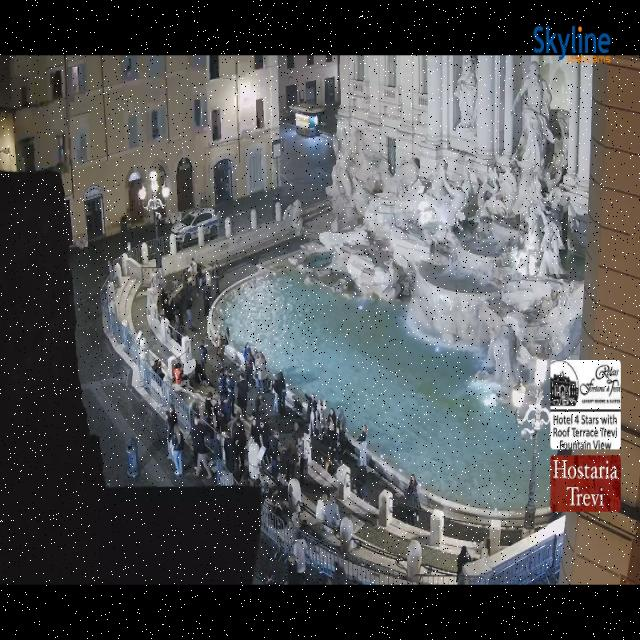person: (192, 413, 212, 479), (206, 409, 223, 477), (265, 486, 287, 529), (267, 483, 287, 529), (206, 376, 227, 416), (260, 458, 287, 489), (149, 270, 166, 319), (232, 417, 246, 474), (274, 449, 288, 502), (293, 531, 307, 584), (295, 504, 315, 541), (203, 413, 216, 469), (298, 432, 311, 488), (256, 416, 271, 464), (171, 425, 185, 475), (183, 360, 208, 388), (406, 475, 420, 525), (256, 418, 271, 463), (270, 472, 288, 508), (320, 562, 349, 584), (273, 450, 287, 492), (217, 422, 230, 467), (156, 293, 174, 324), (457, 546, 472, 583), (250, 402, 263, 444), (167, 405, 177, 459), (236, 374, 248, 419), (205, 392, 219, 430), (231, 416, 247, 449), (272, 372, 285, 412), (457, 546, 471, 583), (268, 432, 279, 478), (286, 440, 298, 482), (223, 430, 235, 472), (271, 488, 287, 519), (185, 402, 200, 435), (186, 263, 200, 297), (167, 362, 188, 384), (325, 497, 339, 530), (267, 480, 282, 510), (315, 399, 326, 439), (277, 450, 288, 490), (174, 295, 185, 334), (327, 409, 337, 451), (244, 349, 255, 387), (170, 292, 183, 324), (330, 443, 343, 475), (357, 424, 367, 465), (193, 362, 210, 386), (173, 291, 185, 325), (226, 371, 235, 416), (164, 290, 179, 317), (316, 399, 326, 439), (292, 423, 302, 463), (196, 342, 207, 378), (315, 494, 328, 524), (212, 335, 223, 370), (188, 402, 200, 434), (195, 363, 211, 387), (294, 505, 308, 532), (244, 345, 253, 387), (264, 483, 277, 512), (288, 502, 303, 527), (356, 465, 367, 499), (245, 350, 255, 387), (261, 353, 271, 390), (338, 410, 347, 451), (181, 365, 195, 391), (356, 466, 367, 499), (157, 298, 172, 322), (277, 372, 286, 412), (257, 353, 266, 392), (319, 399, 328, 438), (305, 393, 316, 424), (215, 404, 228, 430), (160, 296, 173, 322), (181, 364, 194, 390), (168, 315, 180, 343), (187, 264, 197, 297), (212, 433, 223, 463), (218, 326, 231, 351), (203, 409, 216, 434), (309, 405, 319, 437), (315, 399, 323, 439), (216, 366, 227, 395), (186, 295, 195, 330), (274, 483, 288, 505), (332, 562, 346, 584), (174, 362, 187, 385), (166, 292, 177, 319), (251, 418, 261, 447), (203, 404, 215, 428), (248, 412, 261, 434), (332, 443, 343, 469), (180, 268, 191, 294), (157, 289, 167, 317), (157, 288, 167, 316), (203, 270, 213, 298), (329, 453, 341, 476), (172, 361, 183, 386), (199, 340, 207, 374), (188, 266, 197, 296), (218, 371, 227, 401), (191, 258, 198, 296), (274, 483, 288, 502), (253, 348, 260, 386), (288, 555, 297, 584), (175, 312, 183, 344), (221, 397, 231, 422), (280, 372, 286, 412), (152, 359, 164, 379), (213, 400, 221, 430), (159, 283, 169, 307), (165, 296, 175, 320), (156, 306, 171, 322), (217, 335, 224, 367), (255, 393, 263, 421), (273, 375, 279, 412), (150, 269, 160, 291), (327, 409, 337, 430), (261, 482, 270, 505), (213, 263, 219, 297), (204, 289, 211, 318), (293, 423, 301, 447), (233, 465, 243, 484), (337, 410, 346, 431), (264, 375, 275, 392), (196, 265, 203, 291), (273, 193, 280, 219), (481, 538, 490, 558), (205, 392, 213, 414), (182, 269, 190, 291), (162, 290, 170, 312), (321, 455, 331, 472), (204, 288, 212, 308), (260, 352, 267, 374), (184, 270, 191, 292), (205, 271, 211, 296), (320, 572, 331, 584), (320, 573, 331, 585), (249, 415, 255, 435), (266, 571, 275, 584), (224, 327, 230, 346), (152, 359, 159, 375), (243, 343, 250, 359), (190, 257, 197, 272), (196, 359, 203, 372), (556, 449, 571, 455), (216, 366, 224, 376)
